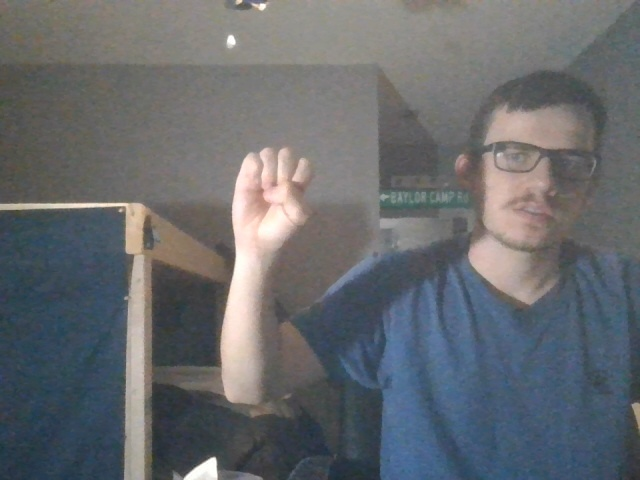E: (220, 139, 325, 258)
